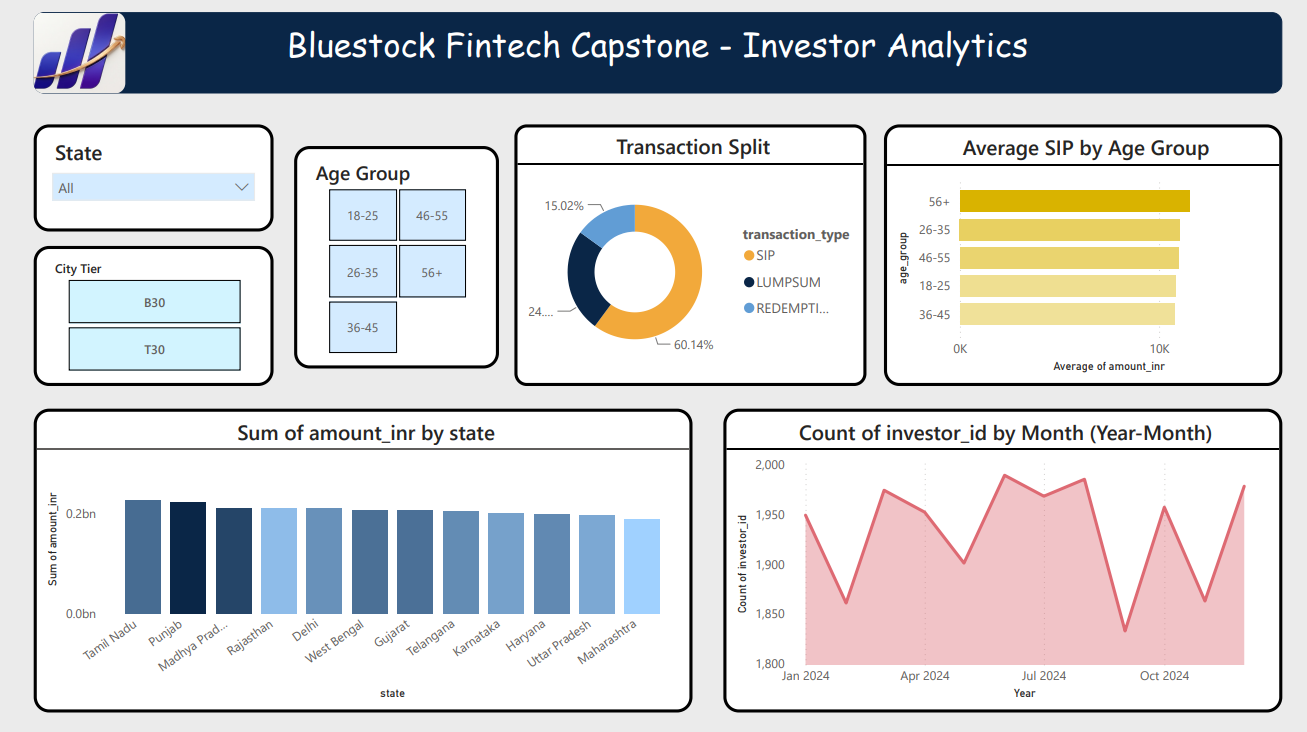

The dashboard page shown, as its layout file describes it:
{"tool":"powerbi","page":{"name":"Investor Analytics","canvas":[1280,720],"ordinal":2},"visuals":[{"type":"textbox","box":[34.3,14.3,1212.9,78.6],"z":0},{"type":"clusteredColumnChart","title":"Sum of amount_inr by state","fields":{"Category":["transactions_clean.state"],"Y":["Sum(transactions_clean.amount_inr)"]},"box":[34.3,398.6,640,295.7],"z":1},{"type":"donutChart","title":"Transaction Split","fields":{"Category":["transactions_clean.transaction_type"],"Y":["CountNonNull(transactions_clean.investor_id)"]},"box":[501.4,122.9,341.4,254.3],"z":2},{"type":"clusteredBarChart","title":"Average SIP by Age Group","fields":{"Y":["Avg(transactions_clean.amount_inr)"],"Category":["transactions_clean.age_group"]},"box":[860,122.9,387.1,254.3],"z":3},{"type":"areaChart","title":"Count of investor_id by Month (Year-Month)","fields":{"Category":["transactions_clean.transaction_date.Variation.Date Hierarchy.Year","transactions_clean.transaction_date.Variation.Date Hierarchy.Month"],"Y":["CountNonNull(transactions_clean.investor_id)"]},"box":[704.3,398.6,542.9,295.7],"z":4},{"type":"slicer","fields":{"Values":["transactions_clean.state"]},"box":[34.3,122.9,232.9,104.3],"z":5},{"type":"slicer","fields":{"Values":["transactions_clean.age_group"]},"box":[287.1,144.3,198.6,215.7],"z":6},{"type":"slicer","fields":{"Values":["transactions_clean.city_tier"]},"box":[34.3,241.4,232.9,135.7],"z":7},{"type":"image","box":[34.3,14.3,88.6,78.6],"z":8}]}

Visuals, with their boxes in screenshot pixels (x1, y1, x2, y2), scaled from the page's 1280x720 canvas onto the 1307x732 screenshot:
textbox: detection(35, 15, 1274, 94)
"Sum of amount_inr by state" clusteredColumnChart: detection(35, 405, 689, 706)
"Transaction Split" donutChart: detection(512, 125, 861, 383)
"Average SIP by Age Group" clusteredBarChart: detection(878, 125, 1273, 383)
"Count of investor_id by Month (Year-Month)" areaChart: detection(719, 405, 1274, 706)
slicer - transactions_clean.state: detection(35, 125, 273, 231)
slicer - transactions_clean.age_group: detection(293, 147, 496, 366)
slicer - transactions_clean.city_tier: detection(35, 245, 273, 383)
image: detection(35, 15, 125, 94)
